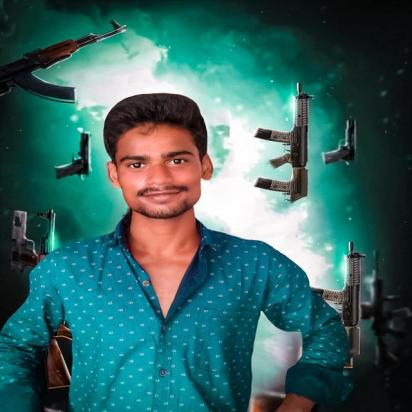Gun: (0, 18, 129, 105), (35, 207, 80, 397), (304, 240, 369, 371), (250, 80, 317, 205), (52, 130, 94, 184), (7, 209, 39, 274), (320, 118, 360, 166)
